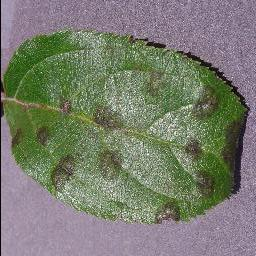apple healthy: (1, 27, 249, 227)
